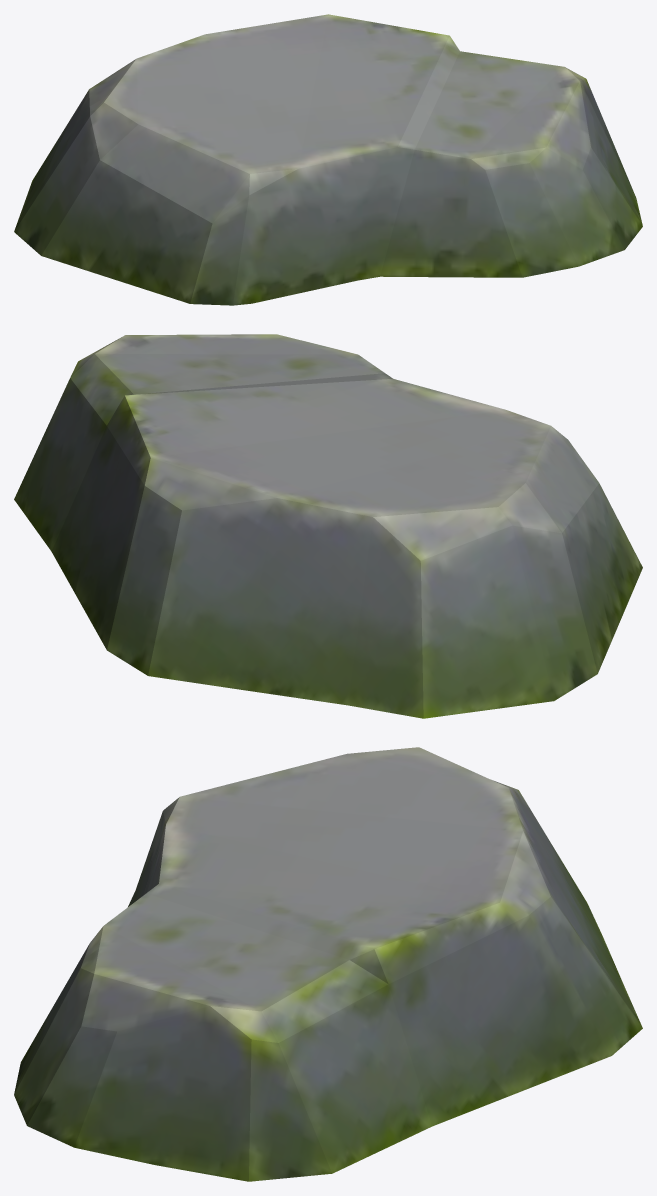
Rendered from Pebble_Round_5.gltf.
The picture shows the model from 3 angles, top to bottom: view 1: azimuth 30°, elevation 25°; view 2: azimuth 150°, elevation 25°; view 3: azimuth 270°, elevation 25°; orthographic projection. The views are drawn at different scales.
Parts seen in each view (by area): view 1: Pebble_Round_5; view 2: Pebble_Round_5; view 3: Pebble_Round_5.
Part boxes in pixels (x1,y1,x2,y2): Pebble_Round_5: (14,14,642,305); Pebble_Round_5: (14,334,642,718); Pebble_Round_5: (14,747,642,1181).
Bounding box in the file's own units: 0.4186 × 0.1008 × 0.3463.
Materials: 1 (1 with a texture image).
